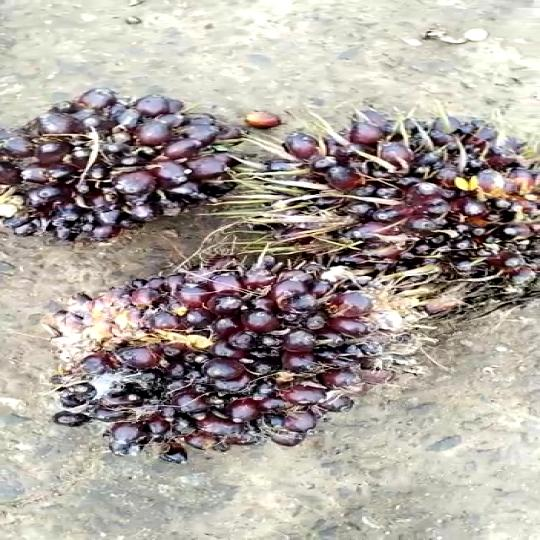kurang masak: (250, 93, 540, 316), (70, 260, 388, 458), (10, 95, 262, 252)
